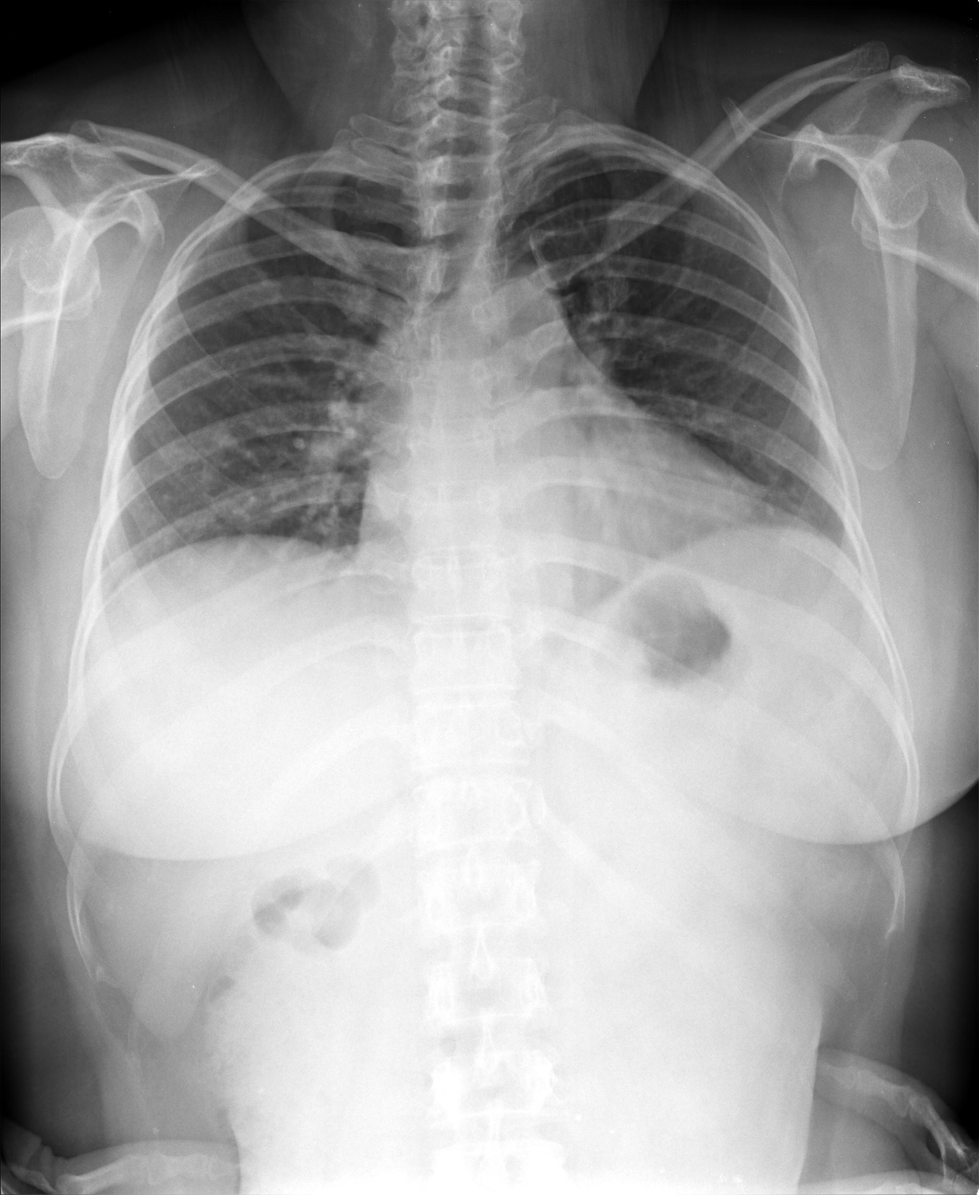Cardiomegaly: (356, 462, 773, 579)
